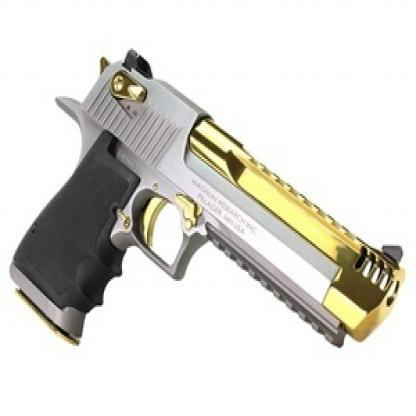Pistol: (7, 48, 405, 342)
